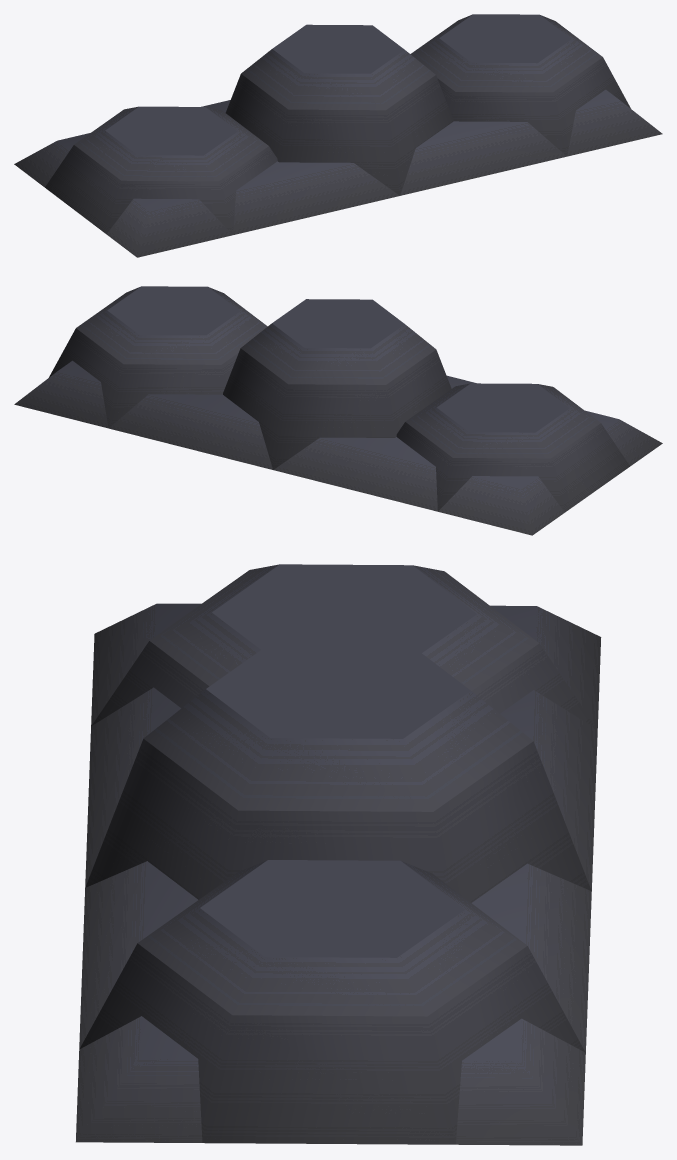
Rendered from cargo_lev2.glb.
3 renders of one model, top to bottom at view 1: azimuth 30°, elevation 25°; view 2: azimuth 150°, elevation 25°; view 3: azimuth 270°, elevation 25°, orthographic. The views are drawn at different scales.
Visible parts, largest first — view 1: cargo_lev2; view 2: cargo_lev2; view 3: cargo_lev2.
Boxes of the visible parts, x1,y1,x2,y2 form: cargo_lev2: [14, 14, 662, 257]; cargo_lev2: [14, 286, 662, 535]; cargo_lev2: [76, 564, 601, 1145].
Bounding box in the file's own units: 1.91 × 0.348 × 0.8294.
1 material, 1 textured.
